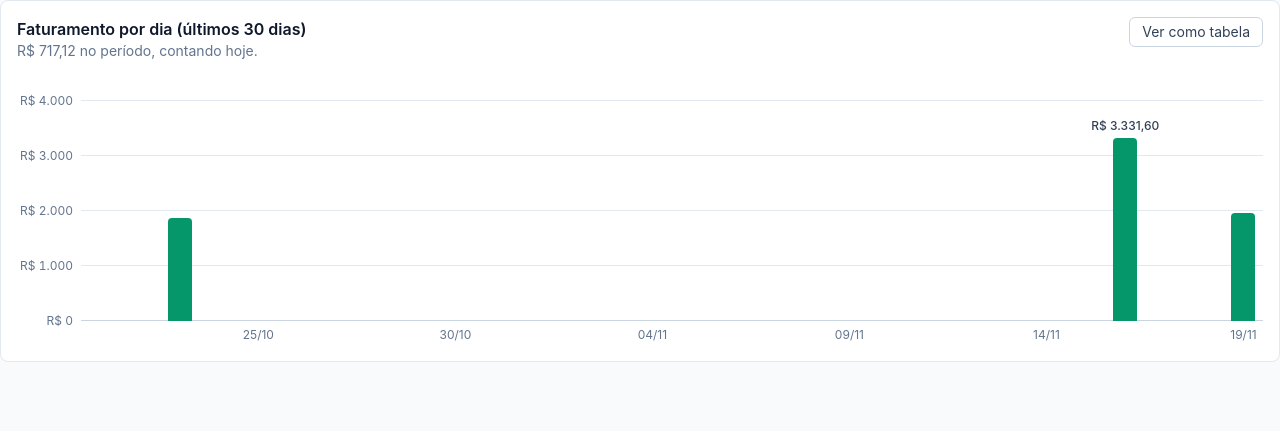
Test: DailyRevenueChart — visão em tabela › alterna para uma tabela com todos os dias e o total, e volta ao gráfico
Click the button "Ver como tabela": click(1196, 32) [1129,17,1263,47]
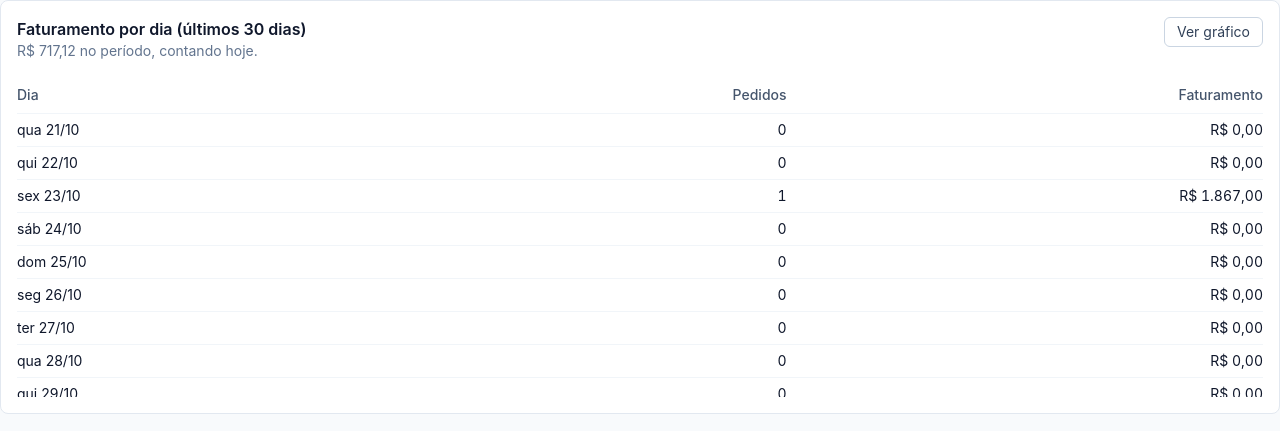
Expected: no pictures with test id "revenue-day" are shown
Expected: the column headings read "Dia", "Pedidos", "Faturamento", in this order, [17,77,409,113]; [409,77,803,113]; [802,77,1263,113]
Click the button "Ver gráfico": click(1214, 32) [1164,17,1263,47]
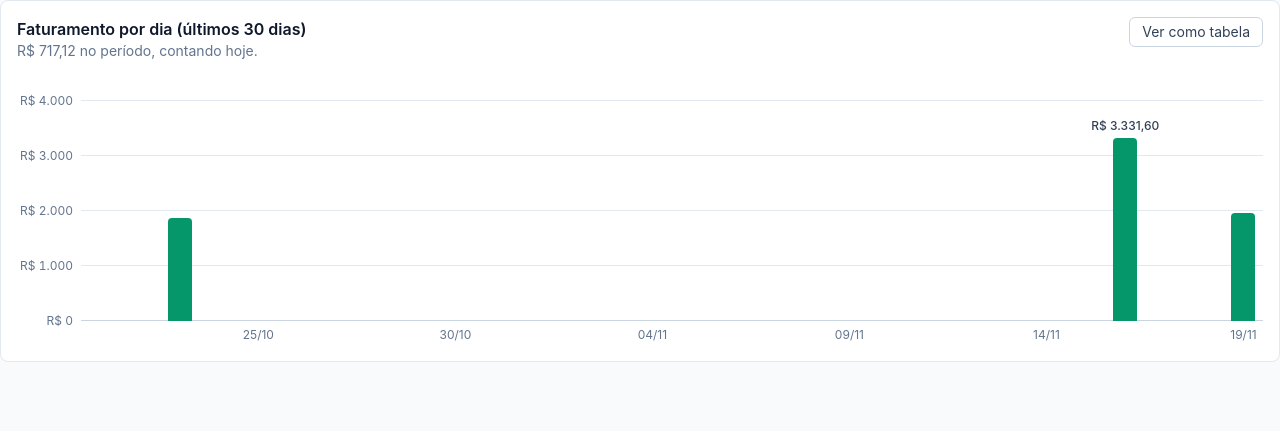
Expected: the number of pictures with test id "revenue-day" is 30
